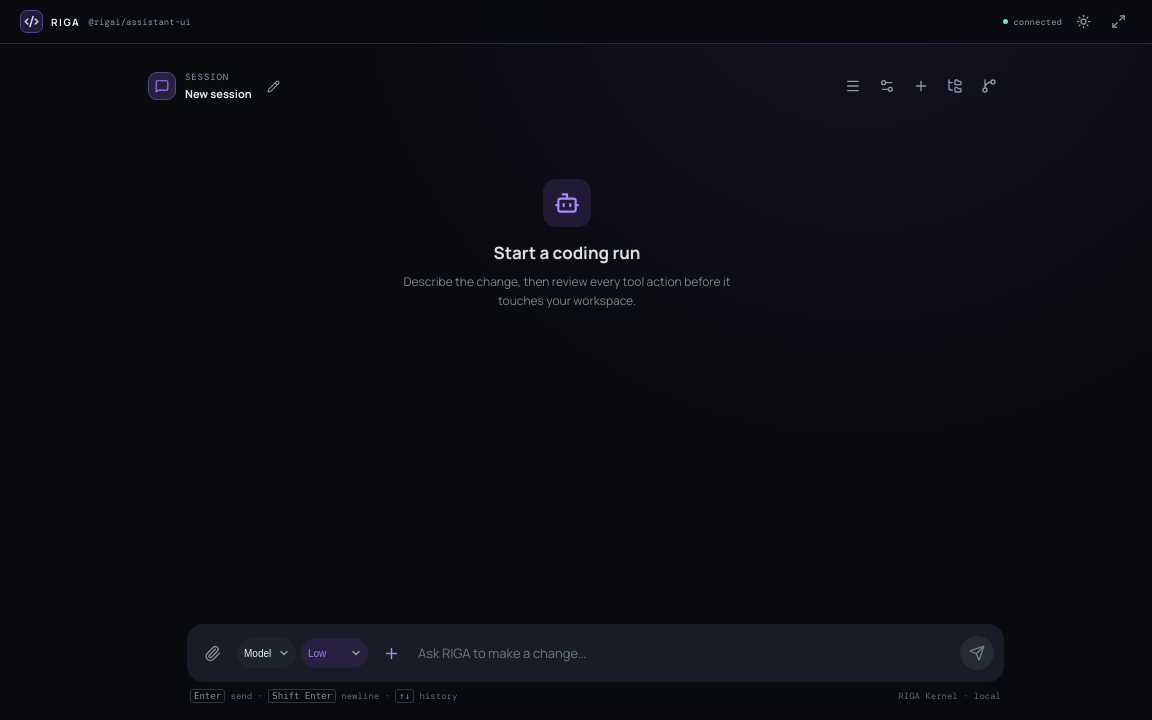
Test: composer + menu › uses TUI slash labels and tool-provided insertion text for dynamic tools
This screenshot has width=1152, height=720.
Expected: the text "connected" is shown, [1003,16,1062,28]
Type "/tools/rea" into the text box with placeholder "Ask RIGA to make a change…" at [683, 653], box [414,636,952,670]
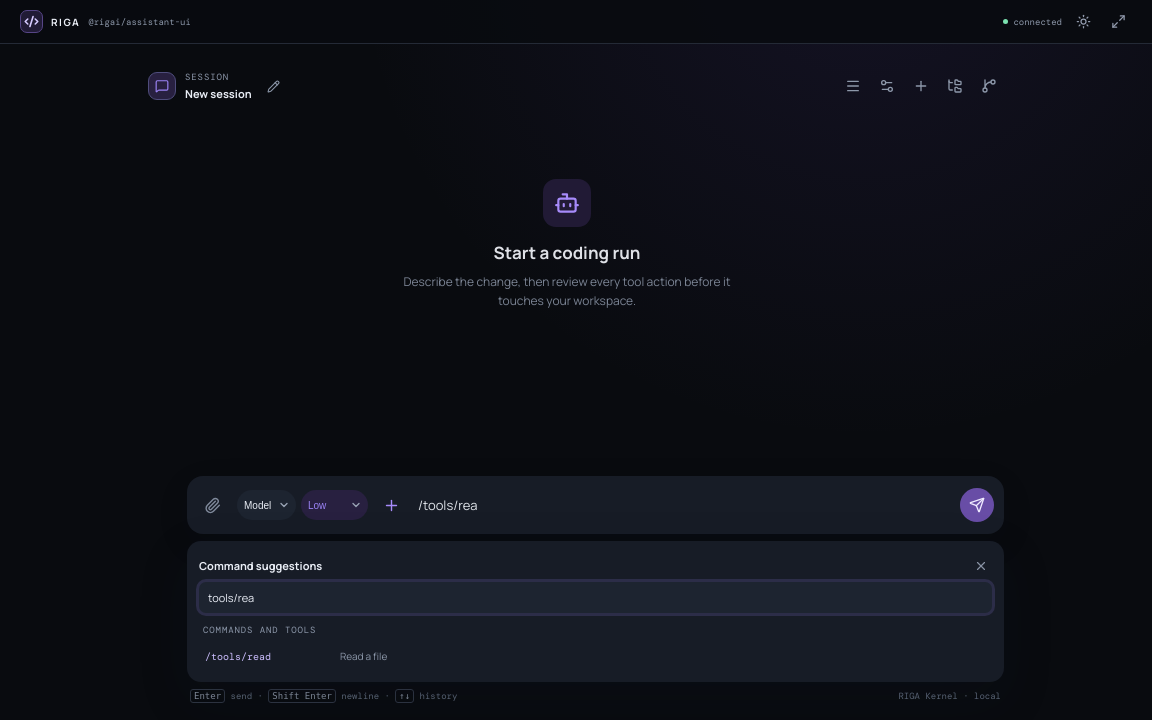
Click the button "/tools/read Read a file" at [238, 656], box [199,642,992,670]
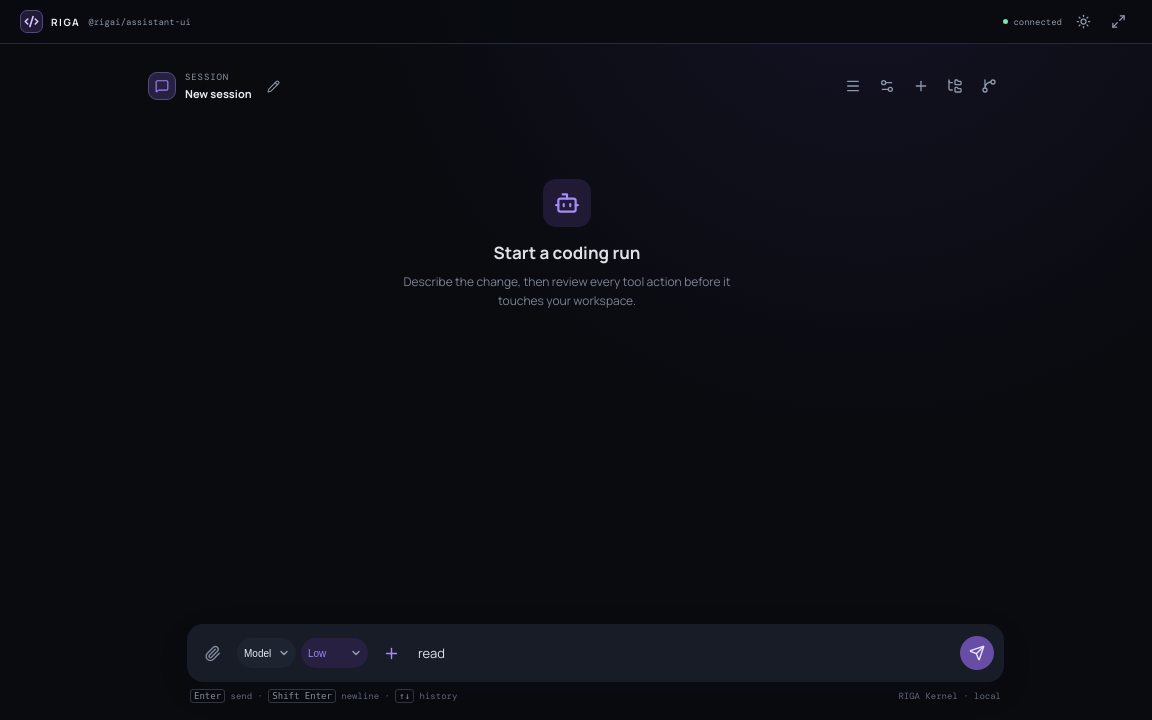
Expected: the text box with placeholder "Ask RIGA to make a change…" holds "read ", [414,636,952,670]
